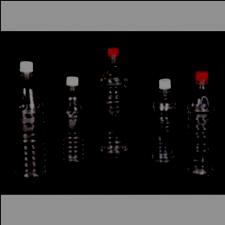Plastic: (9, 58, 48, 186), (96, 42, 131, 161)
